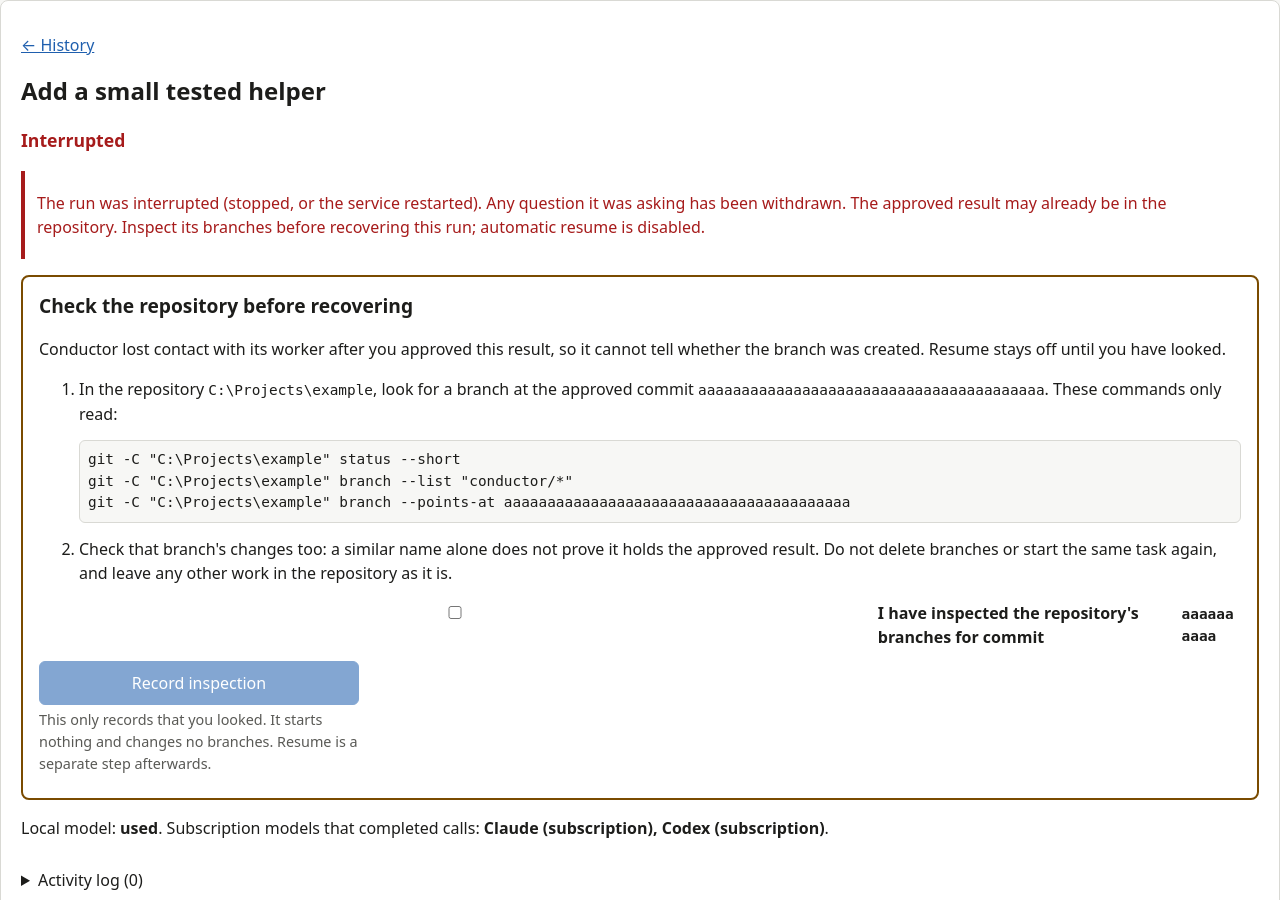
Scenario: recovery after an uncertain landing › recording sends the explicit confirmation bound to the current snapshot, then offers Resume without starting anything
Click the checkbox labelled "I have inspected the repository" at (455, 613), box 43,606 -> 867,619
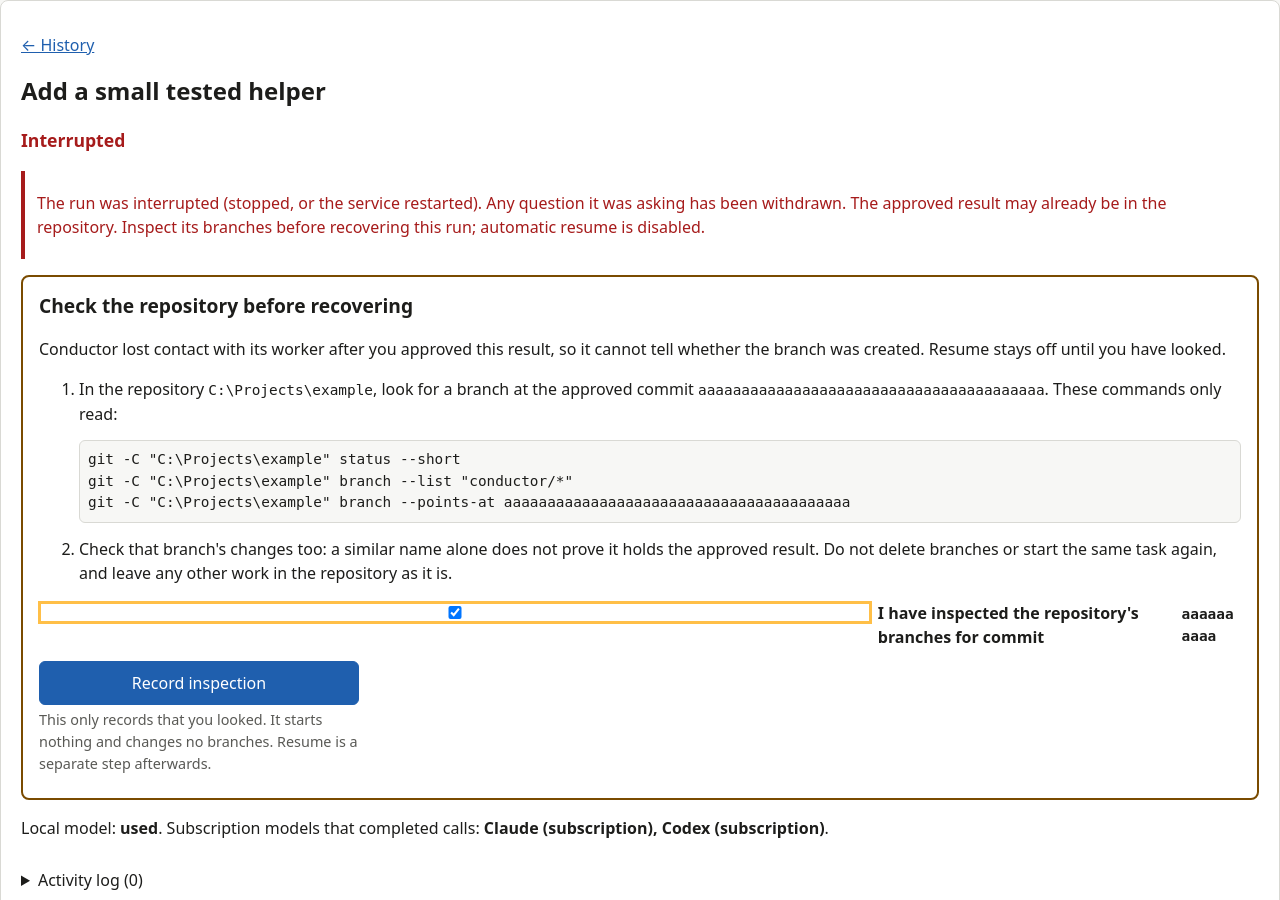
Click the button "Record inspection" at (199, 683), box 39,661 -> 359,705
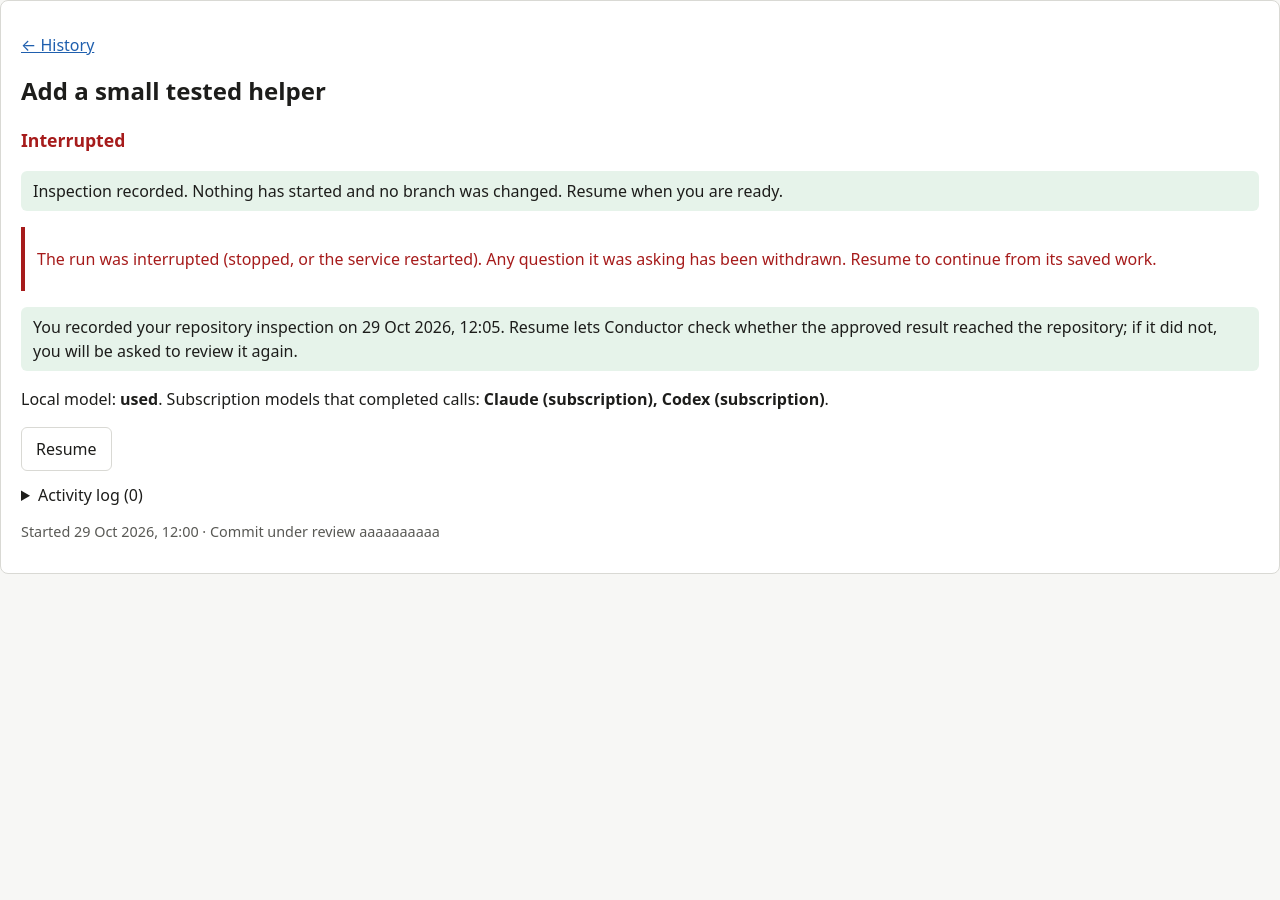
expect the text "Inspection recorded. Nothing has started" is shown: met, box 33,180 -> 783,202
expect the button "Resume" is shown: met, box 21,427 -> 112,471
expect the heading "Check the repository before recovering" is gone: met
